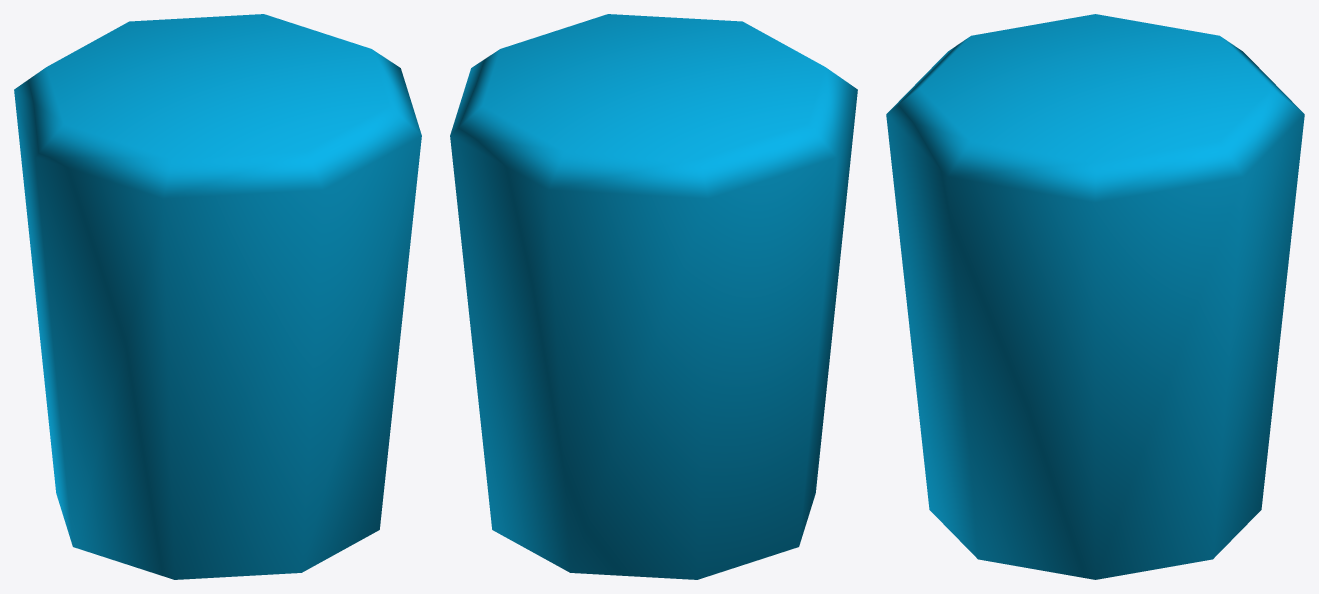
The model's file is Potion_01_Cork2.fbx.
3 renders of one model, left to right at view 1: azimuth 30°, elevation 25°; view 2: azimuth 150°, elevation 25°; view 3: azimuth 270°, elevation 25°, orthographic.
Visible parts, largest first — view 1: Potion_01_Cork2; view 2: Potion_01_Cork2; view 3: Potion_01_Cork2.
Part boxes in pixels (x1=…): Potion_01_Cork2: x1=14, y1=14, x2=421, y2=579; Potion_01_Cork2: x1=450, y1=14, x2=857, y2=579; Potion_01_Cork2: x1=886, y1=14, x2=1304, y2=579.
Size of the model in its own units: 4.75 by 5.27 by 4.75.
